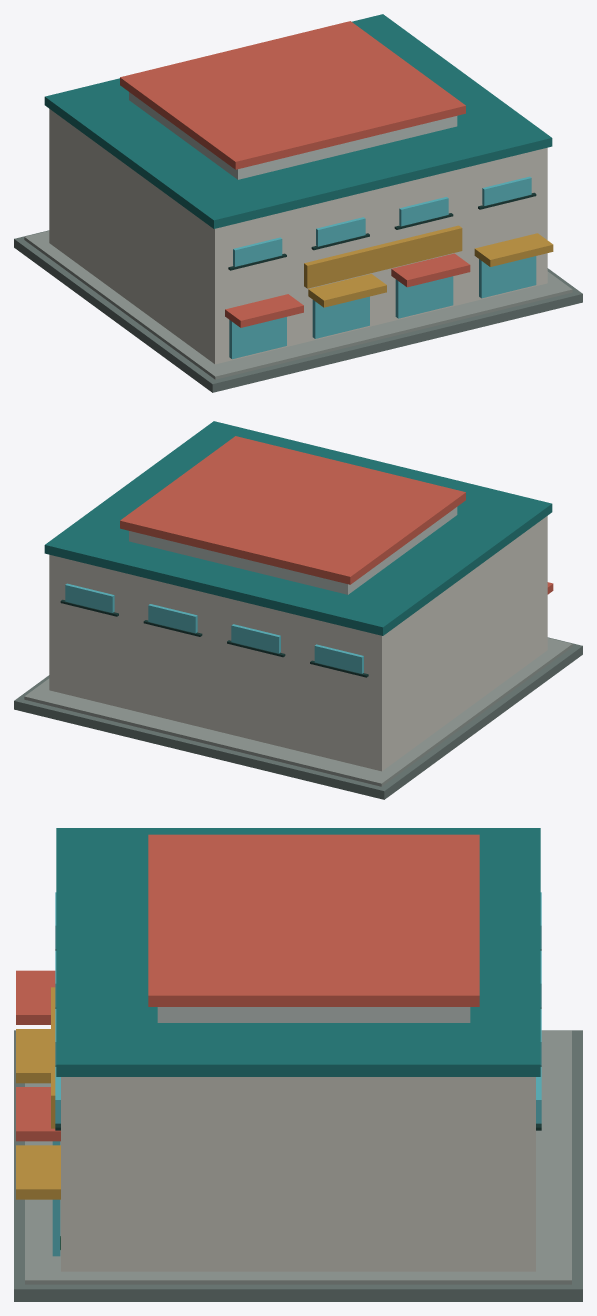
The model's file is market_lv2.glb.
3 views of the same model, one above another, from view 1: azimuth 30°, elevation 25°; view 2: azimuth 150°, elevation 25°; view 3: azimuth 270°, elevation 25° (orthographic). The views are drawn at different scales.
Parts seen in each view (by area): view 1: rough, glossy; view 2: rough, glossy; view 3: rough, glossy.
Boxes of the visible parts, <box> form: rough: <box>14,14,582,392</box>; glossy: <box>229,176,536,359</box>; rough: <box>14,421,582,799</box>; glossy: <box>65,583,363,673</box>; rough: <box>14,828,582,1301</box>; glossy: <box>52,892,541,1256</box>.
Size of the model in its own units: 9.8 by 4.54 by 9.1.
